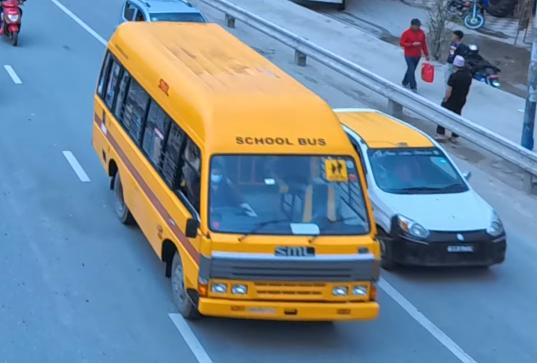school_bus: (88, 19, 384, 336)
taxi: (331, 102, 512, 276)
